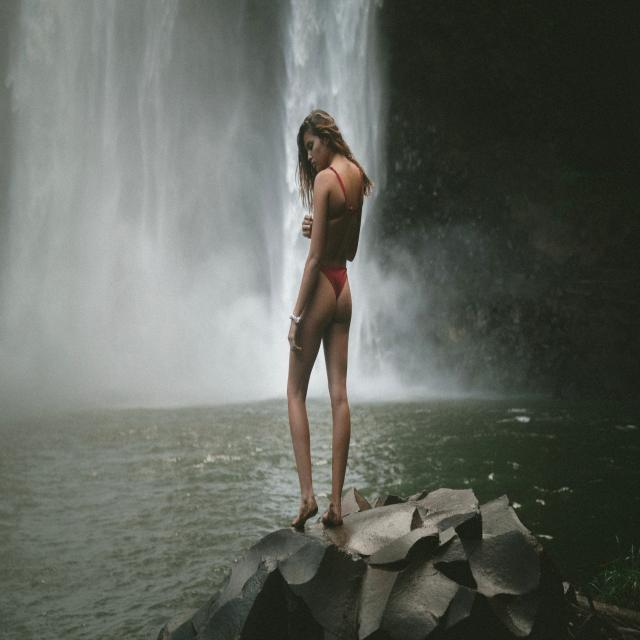adult: (286, 110, 364, 530)
